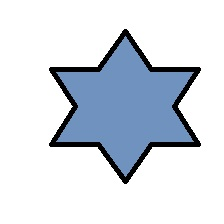star: (48, 28, 201, 184)
